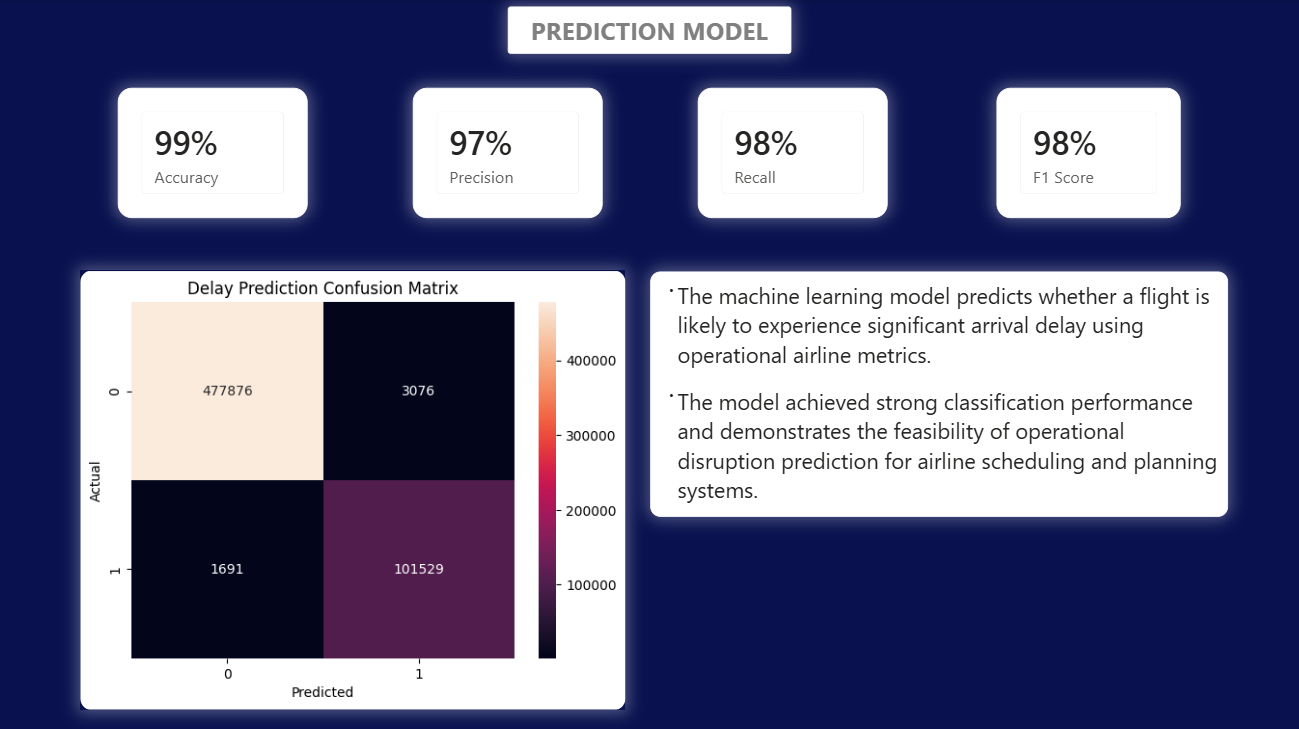

The dashboard page shown, as its layout file describes it:
{"tool":"powerbi","page":{"name":"ML Model Insights","canvas":[1280,720],"ordinal":2},"visuals":[{"type":"textbox","box":[499.5,6.9,278.6,46.7],"z":0},{"type":"cardVisual","fields":{"Data":["Sum(ml_metrics.Value)"]},"box":[116.6,87.3,186.6,127.6],"z":1},{"type":"cardVisual","fields":{"Data":["Sum(ml_metrics.Value)"]},"box":[406.1,87.3,186.6,127.6],"z":2},{"type":"cardVisual","fields":{"Data":["Sum(ml_metrics.Value)"]},"box":[686,87.3,186.6,127.6],"z":3},{"type":"cardVisual","fields":{"Data":["Max(ml_metrics.Value)"]},"box":[979.7,87.3,181.1,127.6],"z":4},{"type":"image","box":[79.8,266.3,535,431.9],"z":5},{"type":"textbox","box":[639.3,267.5,566.9,240.5],"z":6}]}

Visuals, with their boxes in screenshot pixels (x1, y1, x2, y2), scaled from the page's 1280x720 canvas onto the 1299x729 screenshot:
textbox: [507, 7, 790, 54]
cardVisual - Sum(ml_metrics.Value): [118, 88, 308, 218]
cardVisual - Sum(ml_metrics.Value): [412, 88, 601, 218]
cardVisual - Sum(ml_metrics.Value): [696, 88, 886, 218]
cardVisual - Max(ml_metrics.Value): [994, 88, 1178, 218]
image: [81, 270, 624, 707]
textbox: [649, 271, 1224, 514]
